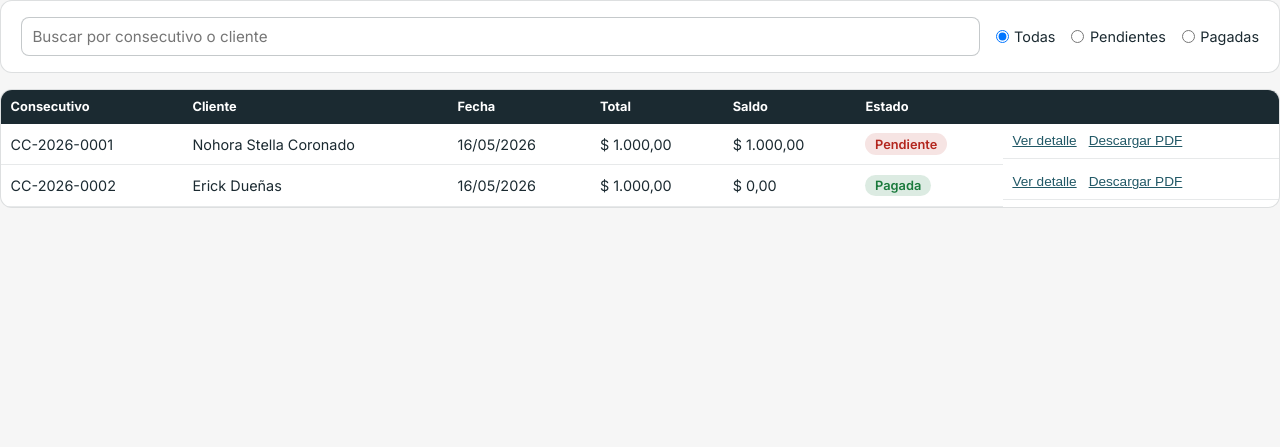
Scenario: HistorialList › muestra el detalle (ítems y abonos) al expandir una fila
This screenshot has width=1280, height=447.
Check: the text "CC-2026-0001" is shown, box [1,124,183,165]
Click the button "Ver detalle" in the row of "CC-2026-0001".
click(1045, 141)  # box [1012,133,1077,148]
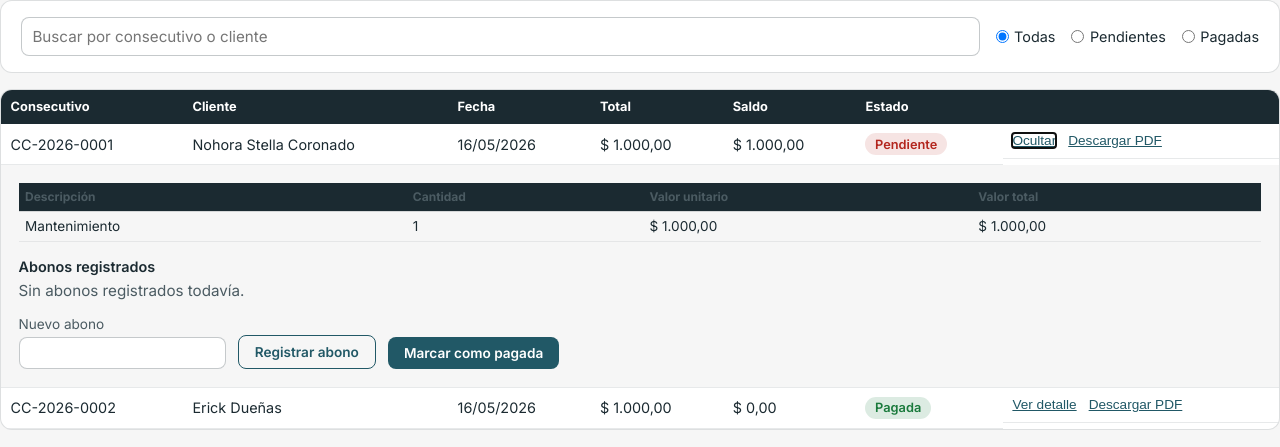
Check: the text "Mantenimiento" is shown, box [19,211,406,241]
Check: the text "Sin abonos registrados todavía." is shown, box [19,281,244,300]
